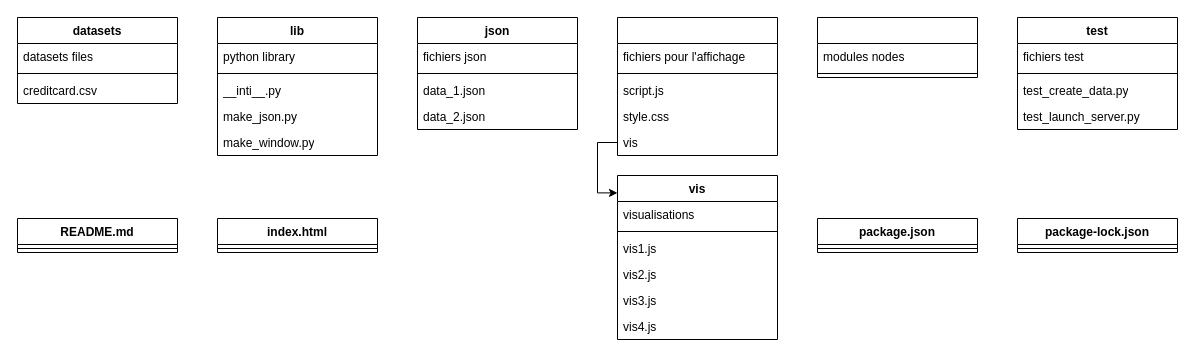
Image size: 1195x360. Some labels were removed from this diagram. The shapes that lost their labels are listed below. From the top down, each one's box as (x1, y1, x2, y2) in pixels, then its label:
(816, 16, 978, 78): node_modules
(616, 16, 778, 156): interface
